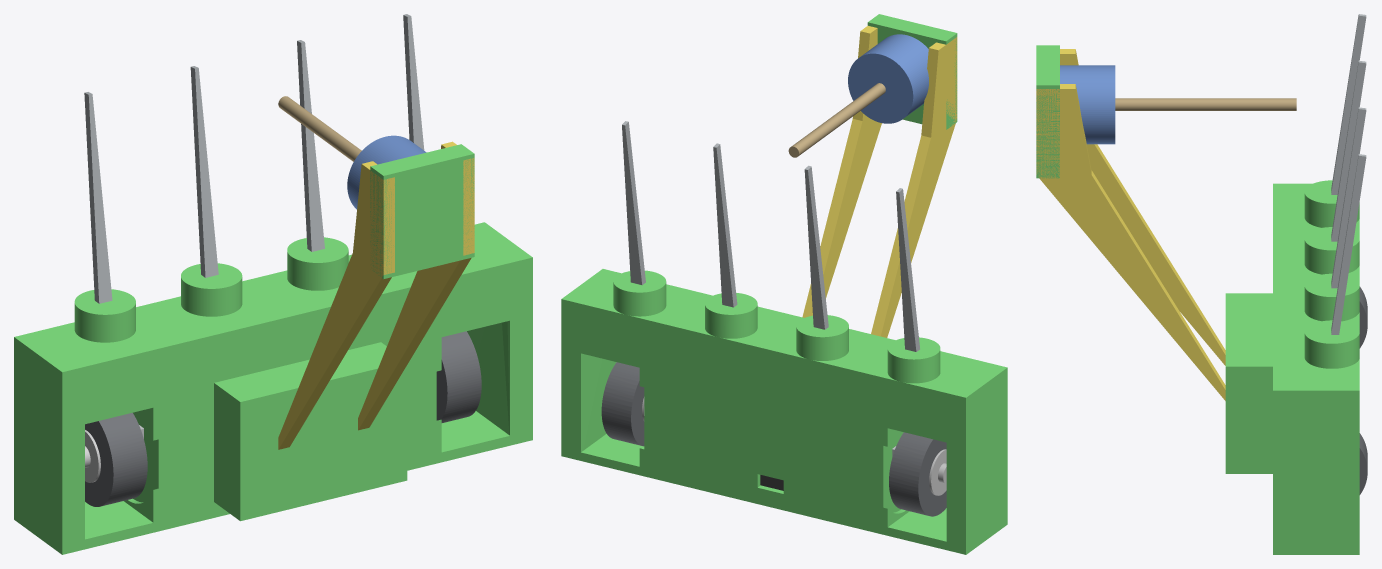
File: auger_the_top.glb
3 views of the same model, side by side, from view 1: azimuth 30°, elevation 25°; view 2: azimuth 150°, elevation 25°; view 3: azimuth 270°, elevation 25° (orthographic). The views are drawn at different scales.
Visible parts, largest first — view 1: chassis, servo_house, endcap_r, head_block, arm_a, endcap_l, arm_b, wheel_r0, wheel_l0, fork_0, fork_1, boss_out_r (+7 smaller); view 2: chassis, endcap_r, arm_a, endcap_l, auger_motor, arm_b, wheel_r0, wheel_l0, boss_out_r, boss_out_l, head_block, boss_in_r (+7 smaller); view 3: endcap_l, arm_b, servo_house, chassis, arm_a, auger_motor, head_block, auger_bit, boss_out_l, boss_in_l, fork_3, boss_in_r (+6 smaller).
Part boxes in pixels (left/top/right/bottom): chassis: left=37, top=237, right=509, bottom=549; servo_house: left=214, top=342, right=407, bottom=521; endcap_r: left=14, top=331, right=84, bottom=554; head_block: left=370, top=144, right=474, bottom=279; arm_a: left=278, top=161, right=394, bottom=449; endcap_l: left=467, top=222, right=532, bottom=445; arm_b: left=358, top=141, right=474, bottom=430; wheel_r0: left=85, top=413, right=147, bottom=506; wheel_l0: left=436, top=331, right=481, bottom=422; fork_0: left=84, top=92, right=112, bottom=303; fork_1: left=190, top=66, right=218, bottom=277; boss_out_r: left=74, top=289, right=135, bottom=342; chassis: left=581, top=280, right=987, bottom=549; endcap_r: left=946, top=363, right=1007, bottom=554; arm_a: left=871, top=37, right=957, bottom=337; endcap_l: left=561, top=269, right=620, bottom=460; auger_motor: left=848, top=34, right=928, bottom=123; arm_b: left=802, top=26, right=881, bottom=317; wheel_r0: left=889, top=432, right=946, bottom=516; wheel_l0: left=601, top=362, right=644, bottom=446; boss_out_r: left=887, top=337, right=940, bottom=383; boss_out_l: left=613, top=270, right=666, bottom=316; head_block: left=867, top=14, right=957, bottom=129; boss_in_r: left=796, top=315, right=848, bottom=360; endcap_l: left=1273, top=380, right=1359, bottom=554; arm_b: left=1036, top=84, right=1225, bottom=400; servo_house: left=1225, top=293, right=1272, bottom=473; chassis: left=1273, top=193, right=1359, bottom=380; arm_a: left=1060, top=49, right=1225, bottom=365; auger_motor: left=1060, top=65, right=1115, bottom=144; head_block: left=1036, top=45, right=1059, bottom=178; auger_bit: left=1115, top=98, right=1296, bottom=110; boss_out_l: left=1304, top=320, right=1359, bottom=368; boss_in_l: left=1304, top=273, right=1359, bottom=321; fork_3: left=1331, top=154, right=1366, bottom=334; boss_in_r: left=1304, top=227, right=1359, bottom=274.
Bounding box in the file's own units: 124 × 108 × 84.
